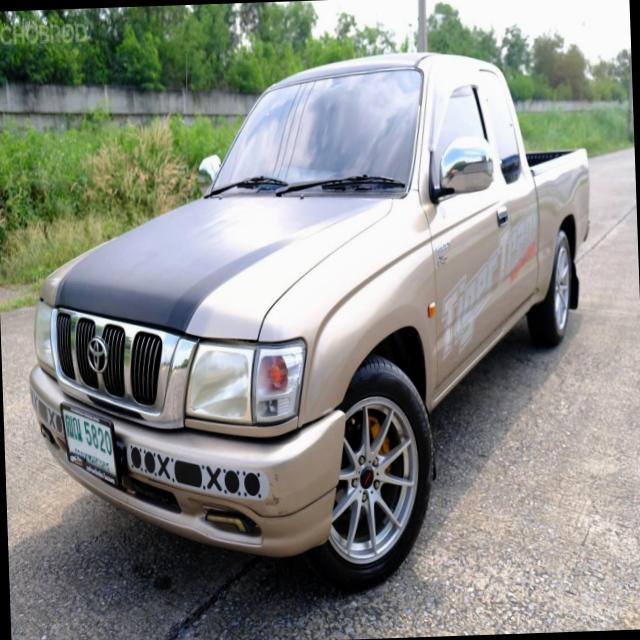license_plate: (50, 394, 125, 499)
